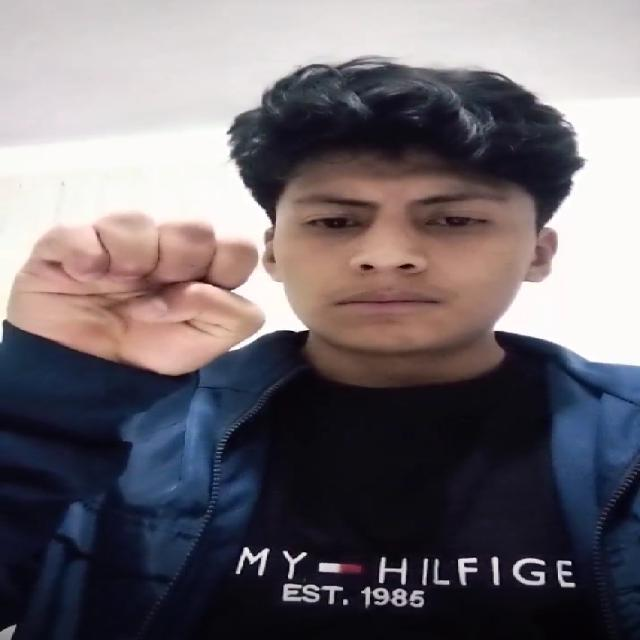S: (0, 213, 273, 387)
